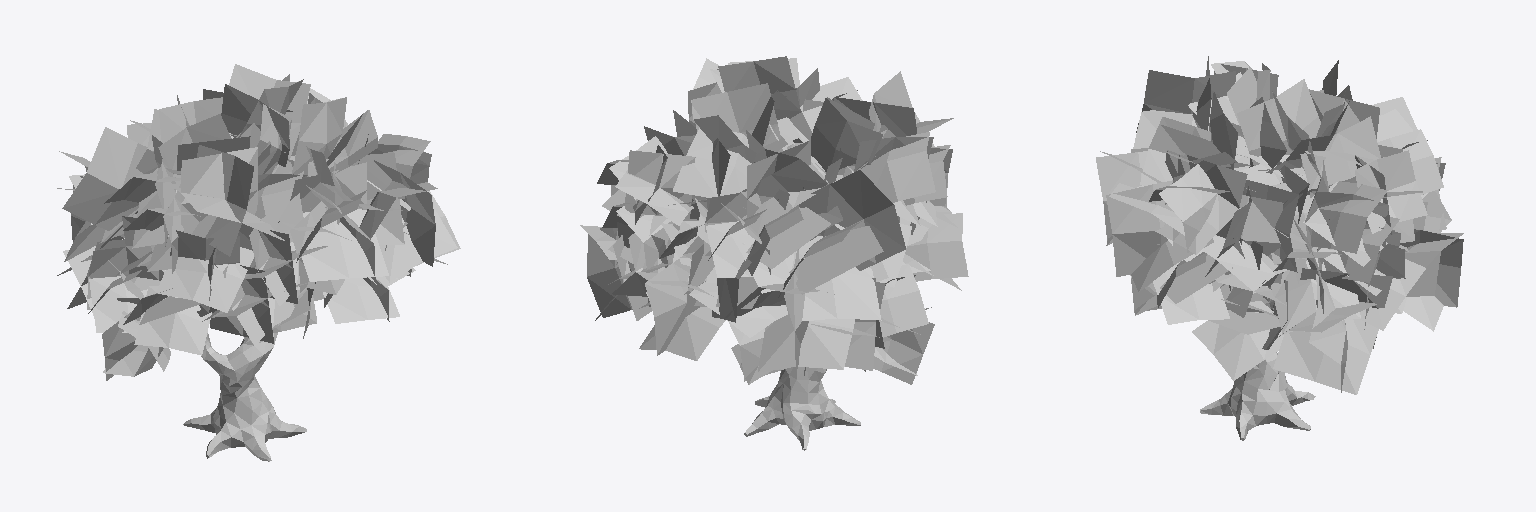
File: TR_01_autumn.obj
The picture shows the model from 3 angles: view 1: azimuth 30°, elevation 25°; view 2: azimuth 150°, elevation 25°; view 3: azimuth 270°, elevation 25°; orthographic projection.
Visible parts, largest first — view 1: Tr_01_Leaves_autumn_001, Tr_01_Stem_autumn_001; view 2: Tr_01_Leaves_autumn_001, Tr_01_Stem_autumn_001; view 3: Tr_01_Leaves_autumn_001, Tr_01_Stem_autumn_001.
Part boxes in pixels (x1,y1,x2,y2): Tr_01_Leaves_autumn_001: (57,64,460,380); Tr_01_Stem_autumn_001: (183,333,306,461); Tr_01_Leaves_autumn_001: (580,56,968,384); Tr_01_Stem_autumn_001: (744,367,860,450); Tr_01_Leaves_autumn_001: (1096,56,1463,394); Tr_01_Stem_autumn_001: (1200,287,1315,440).
Bounding box in the file's own units: 434 × 427 × 415.